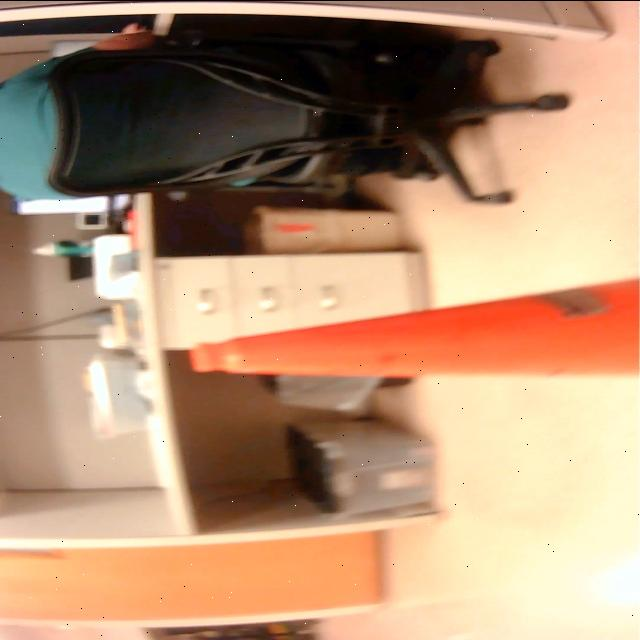traffic cone: (178, 261, 640, 387)
